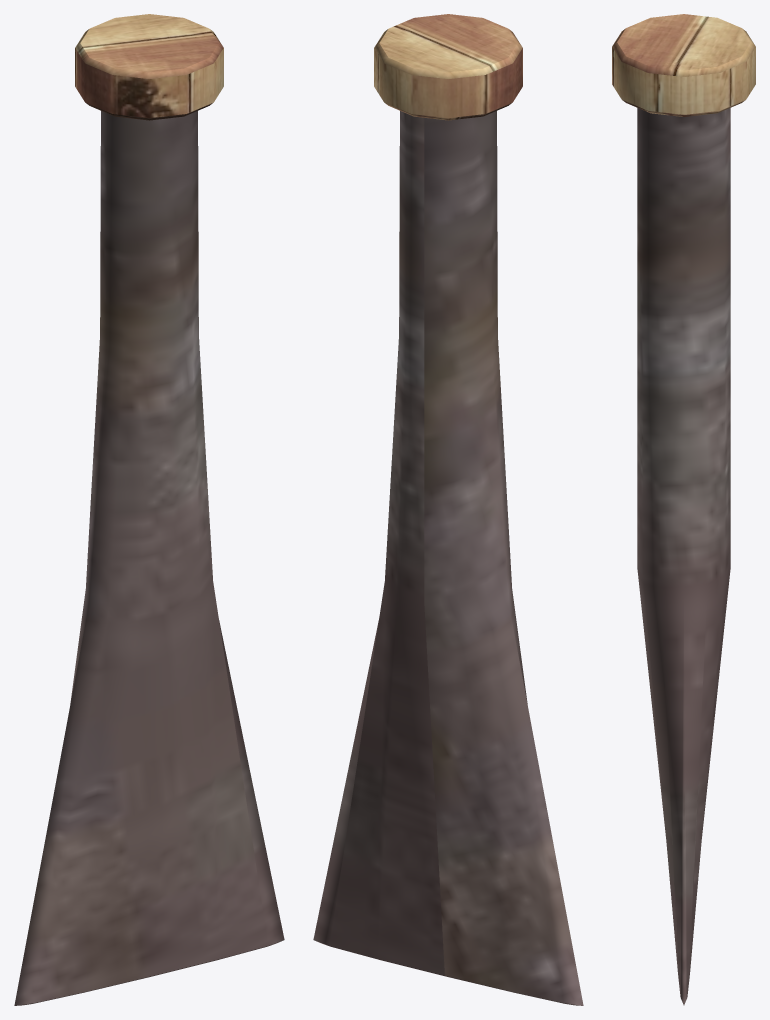
3 views of the same model, side by side, from view 1: azimuth 30°, elevation 25°; view 2: azimuth 150°, elevation 25°; view 3: azimuth 270°, elevation 25° (orthographic). The views are drawn at different scales.
Visible parts, largest first — view 1: зубило, шляпка; view 2: зубило, шляпка; view 3: зубило, шляпка.
Part boxes in pixels (<box>): зубило: <box>14,111,284,1005</box>; шляпка: <box>75,14,223,120</box>; зубило: <box>313,111,583,1005</box>; шляпка: <box>374,14,522,120</box>; зубило: <box>637,108,730,1005</box>; шляпка: <box>612,14,755,116</box>.
Bounding box in the file's own units: 854 × 2811 × 407.
Materials: 2 (2 with a texture image).
